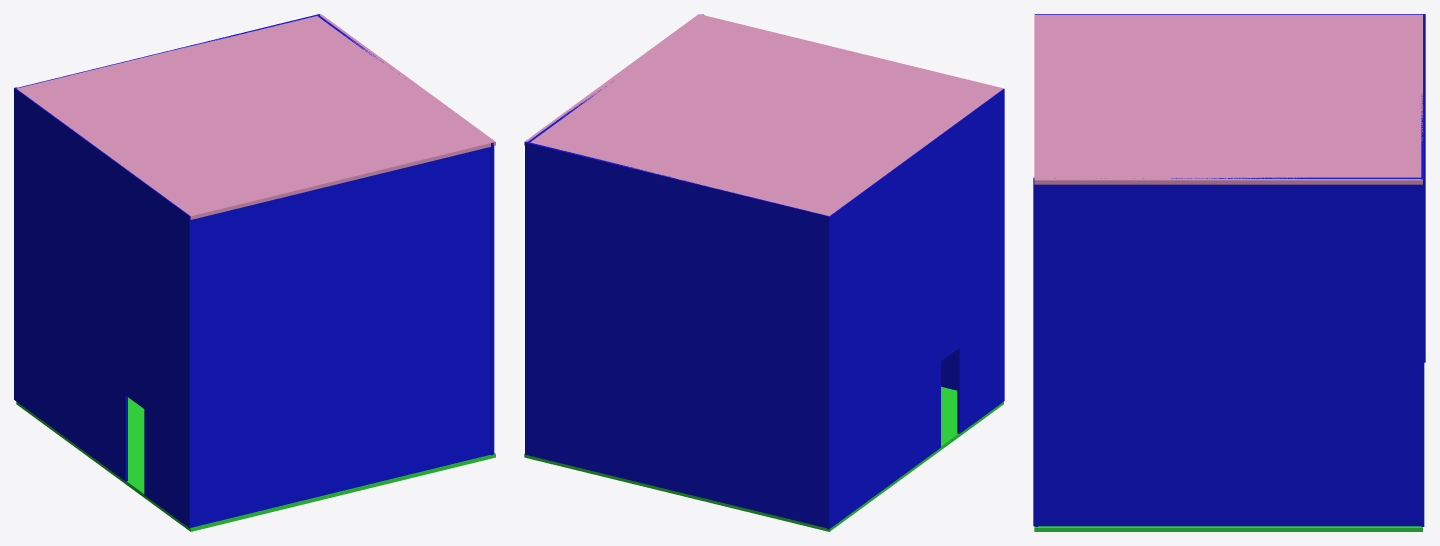
The model's file is Cobertizo_Electricidad.fbx.
3 renders of one model, left to right at view 1: azimuth 30°, elevation 25°; view 2: azimuth 150°, elevation 25°; view 3: azimuth 270°, elevation 25°, orthographic. The views are drawn at different scales.
Parts seen in each view (by area): view 1: m_paredCobertizo_03, m_paredCobertizo_02, m_techoCobertizo, m_sueloCobertizo, m_paredCobertizo_04; view 2: m_paredCobertizo_01, m_paredCobertizo_02, m_techoCobertizo, m_sueloCobertizo, m_paredCobertizo_03; view 3: m_paredCobertizo_04, m_techoCobertizo, m_sueloCobertizo, m_paredCobertizo_01, m_paredCobertizo_02, m_paredCobertizo_03.
Part boxes in pixels (x1,y1,x2,y2): m_paredCobertizo_03: (190, 146, 494, 527); m_paredCobertizo_02: (14, 87, 190, 528); m_techoCobertizo: (16, 14, 495, 219); m_sueloCobertizo: (16, 397, 495, 531); m_paredCobertizo_04: (317, 15, 493, 455); m_paredCobertizo_01: (525, 141, 828, 528); m_paredCobertizo_02: (827, 89, 1004, 529); m_techoCobertizo: (524, 14, 1003, 216); m_sueloCobertizo: (524, 386, 1003, 531); m_paredCobertizo_03: (941, 350, 957, 390); m_paredCobertizo_04: (1033, 177, 1423, 526); m_techoCobertizo: (1034, 14, 1422, 184); m_sueloCobertizo: (1034, 526, 1422, 531); m_paredCobertizo_01: (1421, 14, 1424, 526); m_paredCobertizo_02: (1035, 14, 1425, 362); m_paredCobertizo_03: (1035, 14, 1037, 526).
Bounding box in the file's own units: 2617 × 2579 × 2610.
